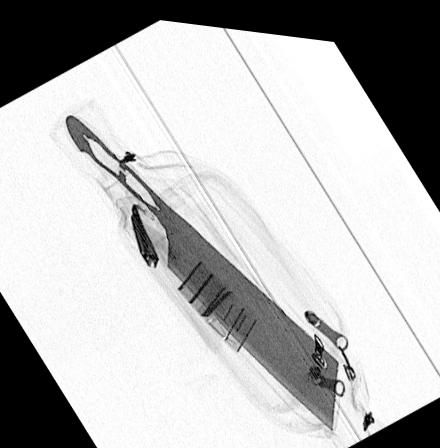Knife: (62, 112, 340, 424)
